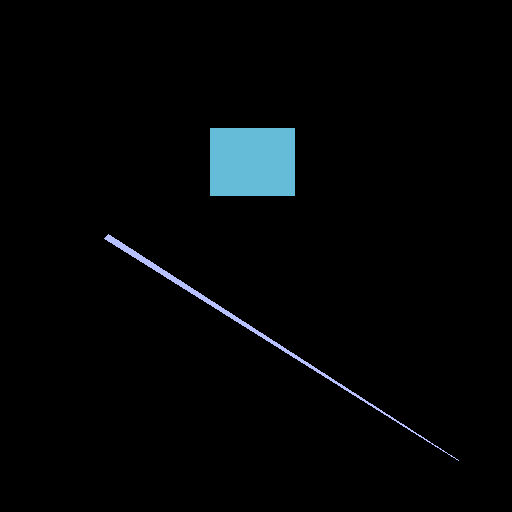rectangle: (210, 128, 294, 195)
